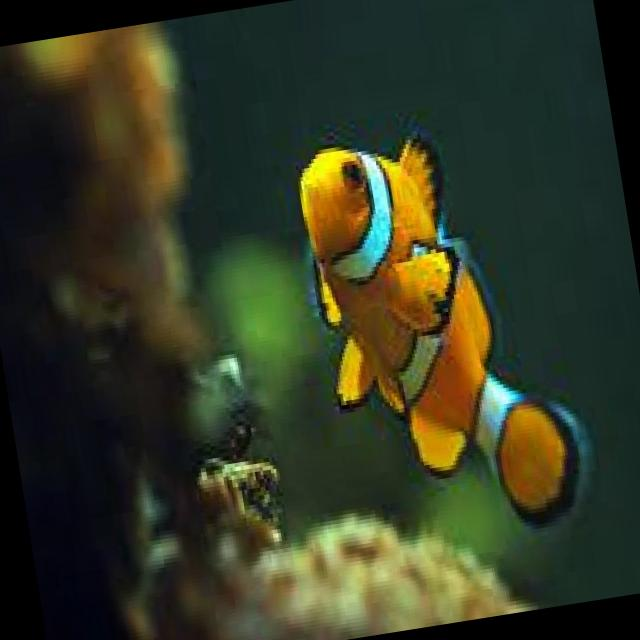ClownFish: (285, 105, 604, 565)
